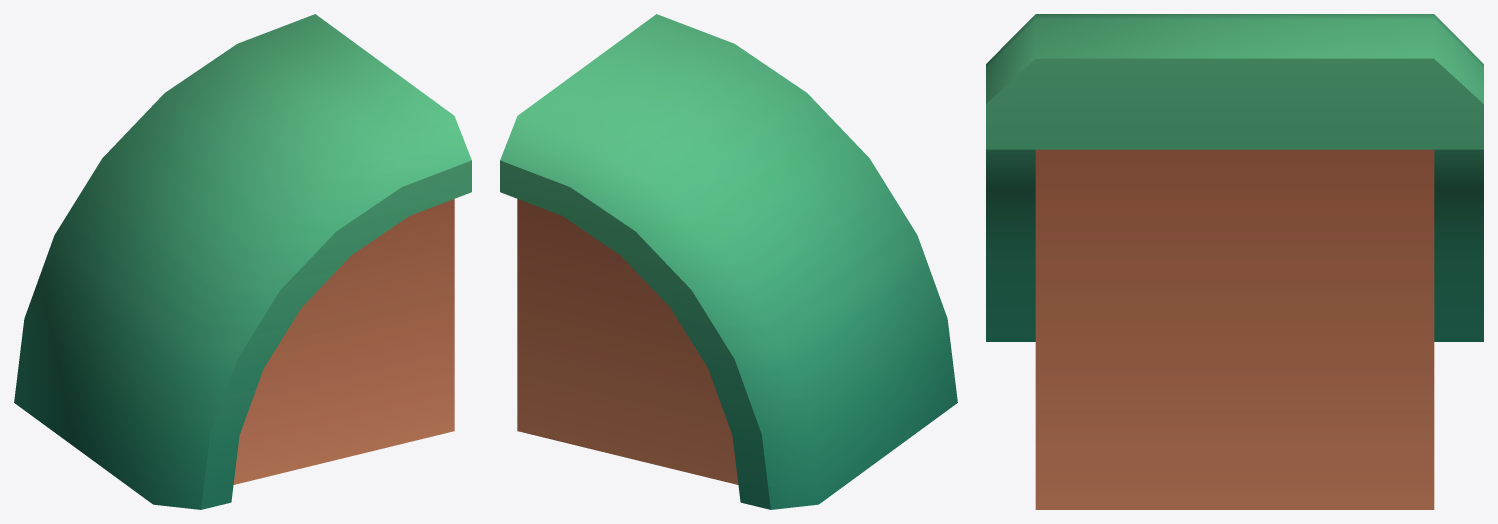
File: kenney-platformer-block-grass-curve-half.glb
3 views of the same model, side by side, from view 1: azimuth 30°, elevation 25°; view 2: azimuth 150°, elevation 25°; view 3: azimuth 270°, elevation 25° (orthographic). The views are drawn at different scales.
Visible parts, largest first — view 1: block-grass-curve-half; view 2: block-grass-curve-half; view 3: block-grass-curve-half.
Boxes of the visible parts, <box> form: block-grass-curve-half: <box>14,14,471,509</box>; block-grass-curve-half: <box>500,14,957,509</box>; block-grass-curve-half: <box>986,14,1483,509</box>.
Bounding box in the file's own units: 1 × 1 × 1.
1 material, 1 textured.
